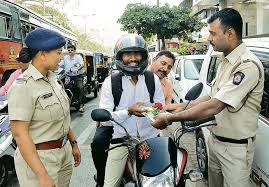helmet: (113, 33, 148, 76)
